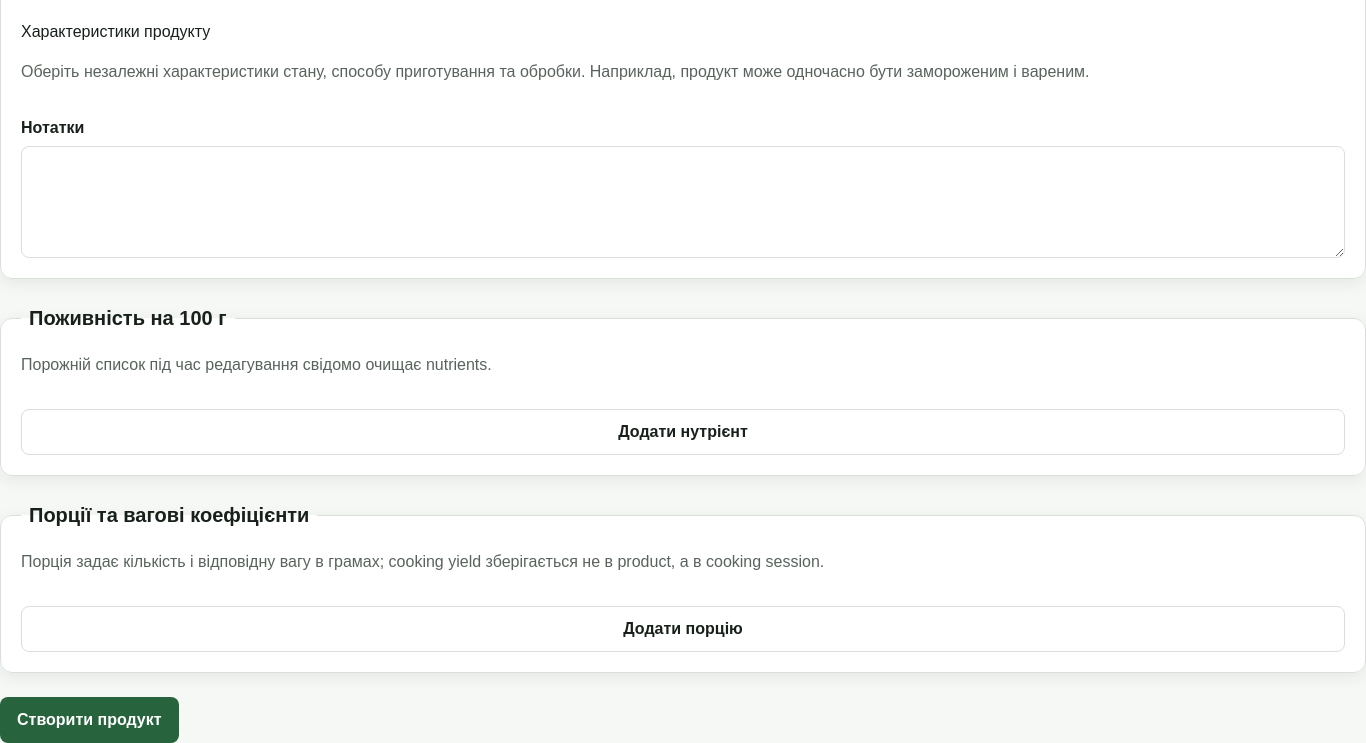
Test: ProductForm › announces validation errors and does not submit an incomplete form
(page scrolled)
Click the button "Створити продукт" at (89, 720), box [0,697,179,742]
(page scrolled)
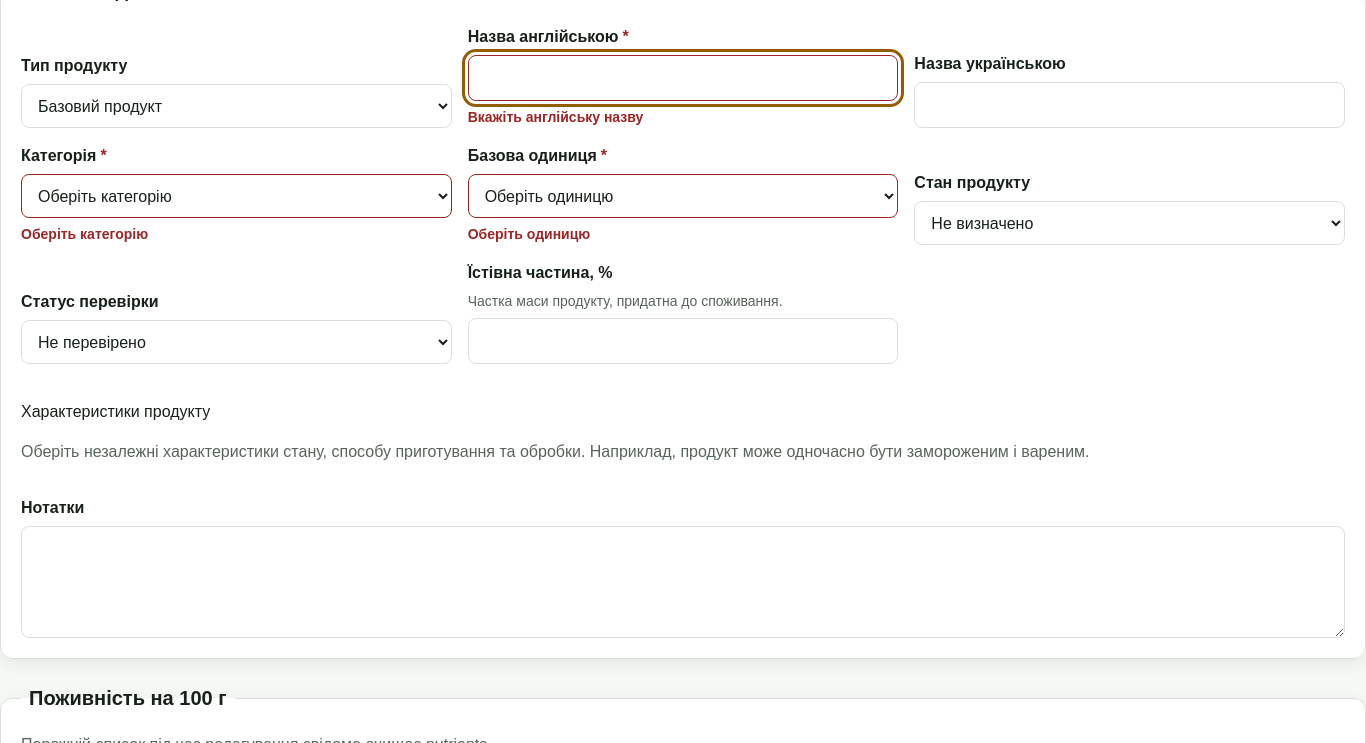
expect the message "Вкажіть англійську назву" is shown: met, box [468,109,643,125]
